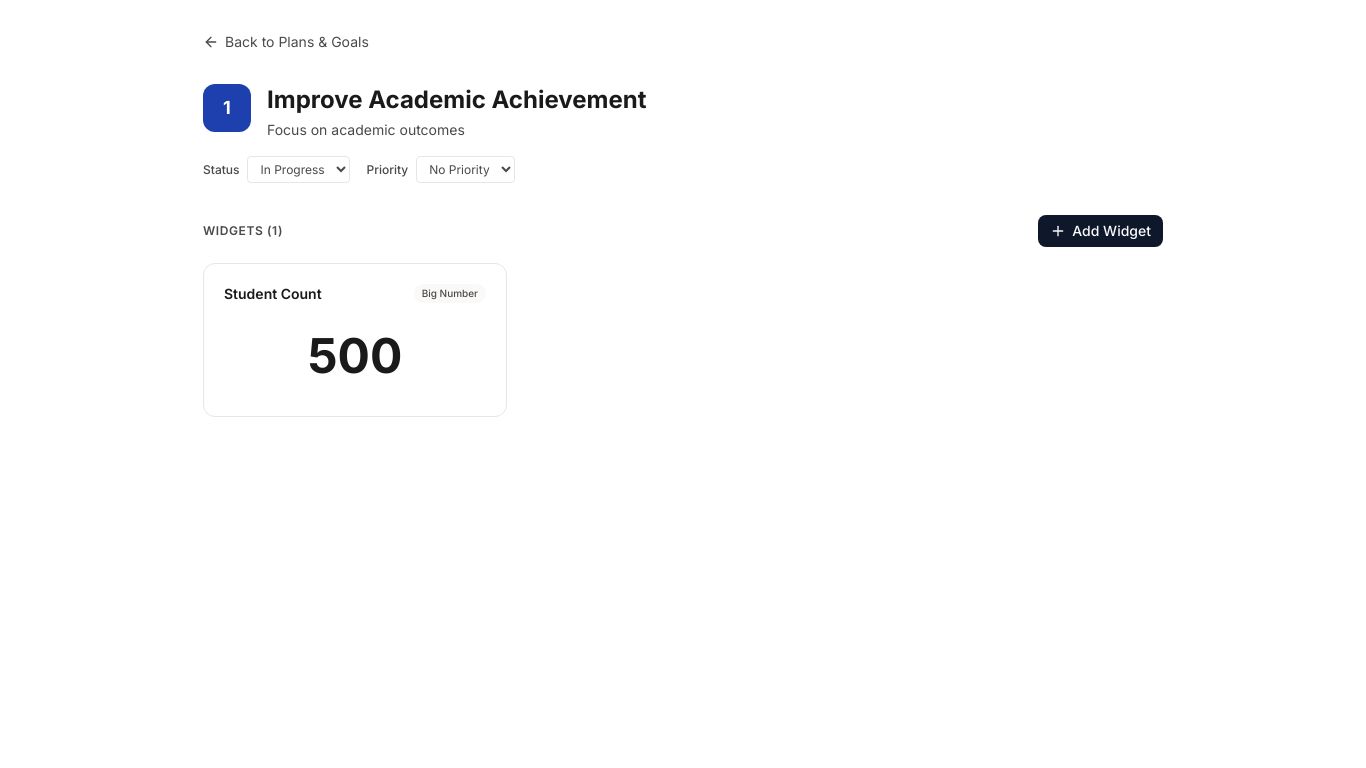
Test case: V2GoalDetail › creates widget with goal_id
The width and height of the screenshot is (1366, 768).
Note: Open catalog
Click the button "Add Widget".
click(1101, 231)  # box [1038,215,1163,247]
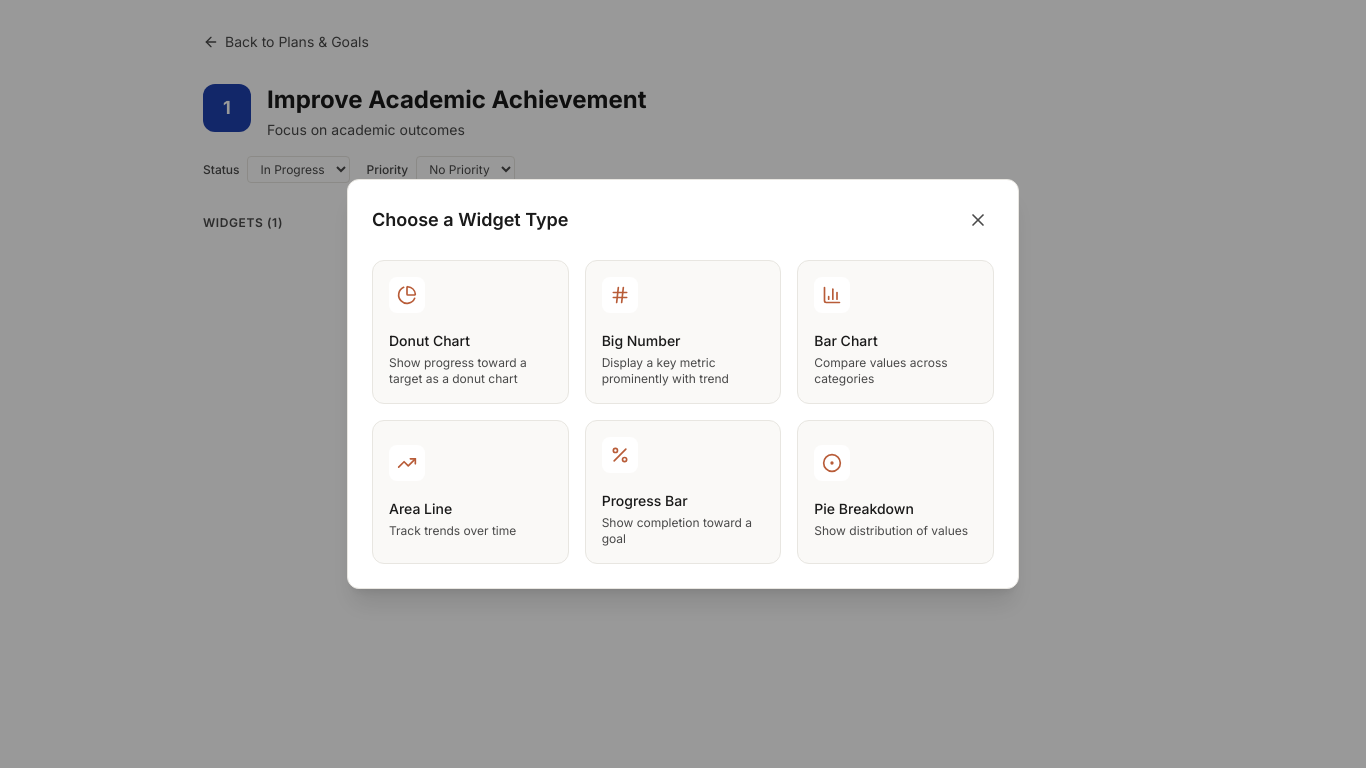
Note: Select donut type
Click the text "Donut Chart".
click(430, 340)  # box [389,332,470,349]
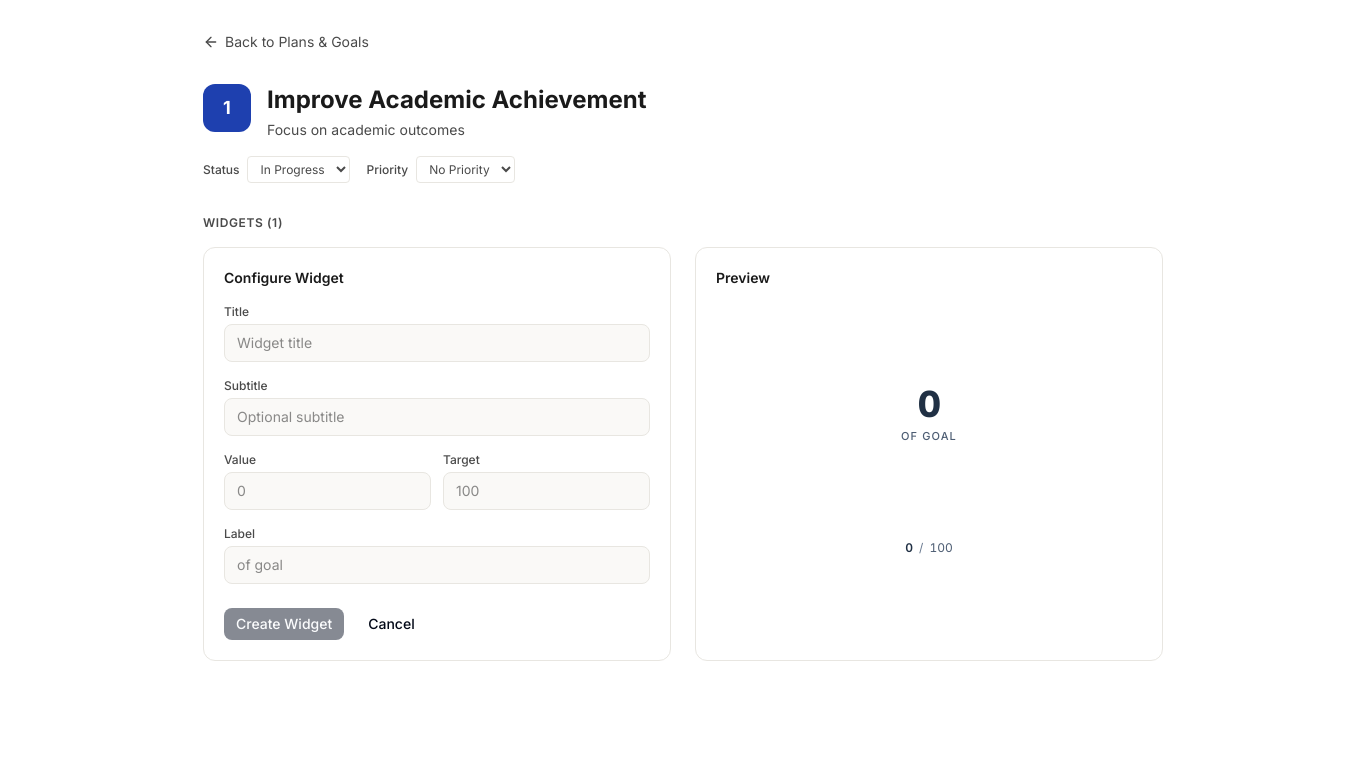
Check: the heading "Configure Widget" is shown, box [224,269,344,286]
